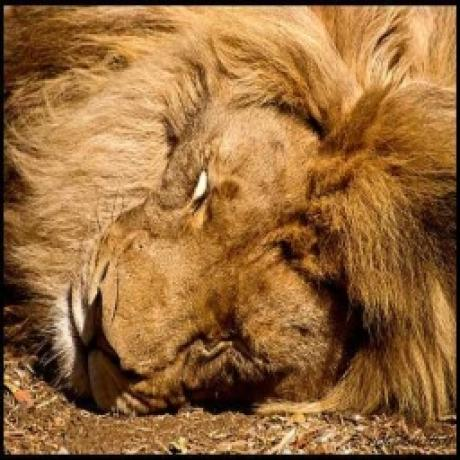Lion: (0, 0, 460, 426)
